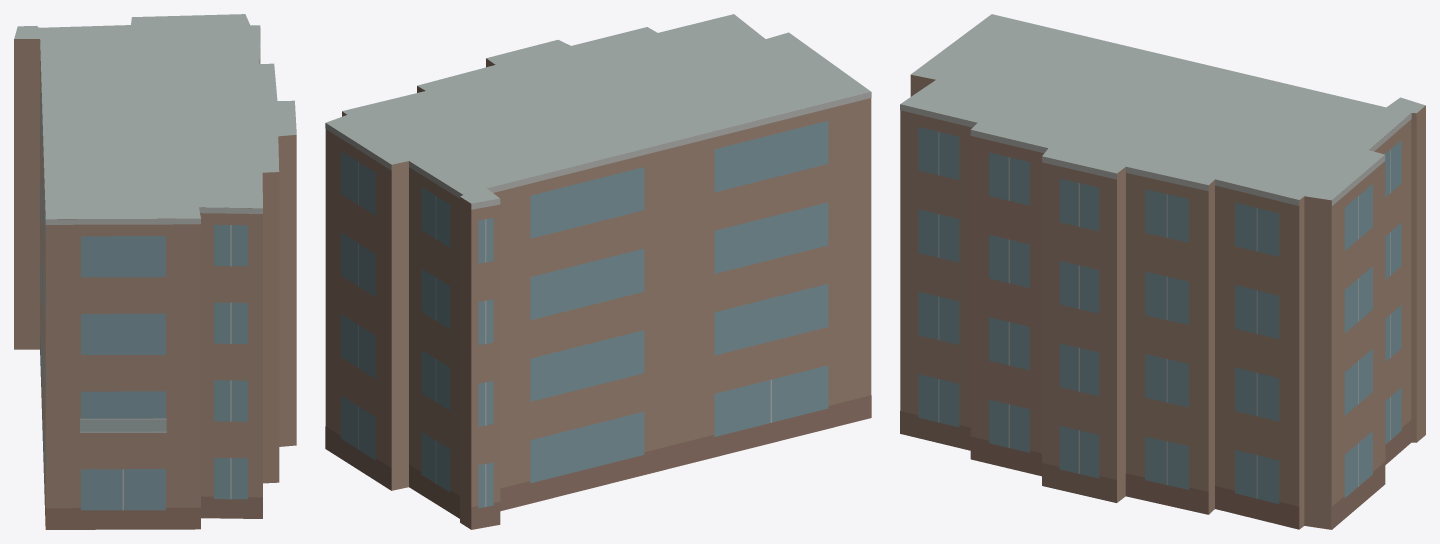
The model's file is survey-upis-32882809.glb.
The picture shows the model from 3 angles, left to right: view 1: azimuth 30°, elevation 25°; view 2: azimuth 150°, elevation 25°; view 3: azimuth 270°, elevation 25°; orthographic projection. The views are drawn at different scales.
Parts seen in each view (by area): view 1: survey-upis-32882809.tmp; view 2: survey-upis-32882809.tmp; view 3: survey-upis-32882809.tmp.
Boxes of the visible parts, x1,y1,x2,y2 form: survey-upis-32882809.tmp: (14, 14, 296, 529); survey-upis-32882809.tmp: (325, 14, 871, 529); survey-upis-32882809.tmp: (900, 14, 1425, 529).
Size of the model in its own units: 16 by 13.19 by 19.08.
